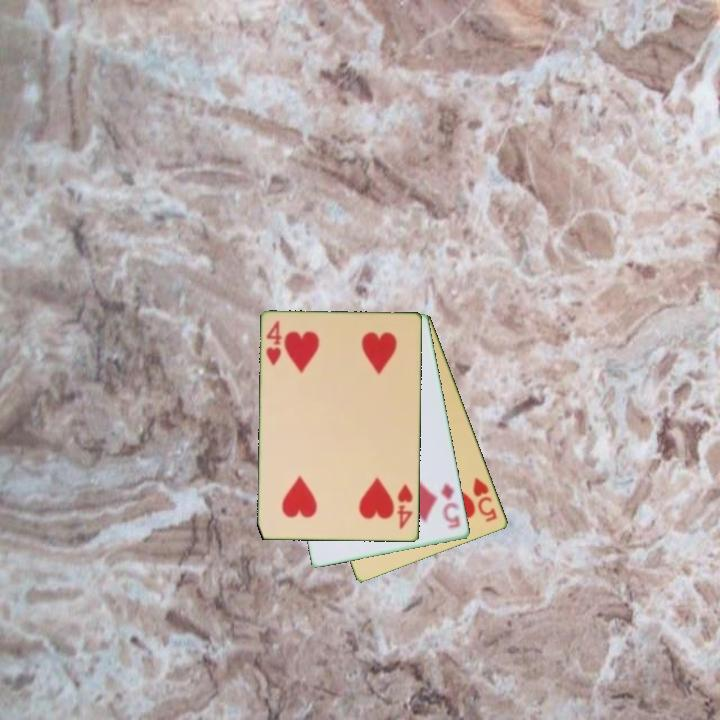4h: (394, 481, 416, 533), (263, 317, 285, 368)
5d: (437, 480, 463, 532)
5h: (469, 474, 500, 525)
